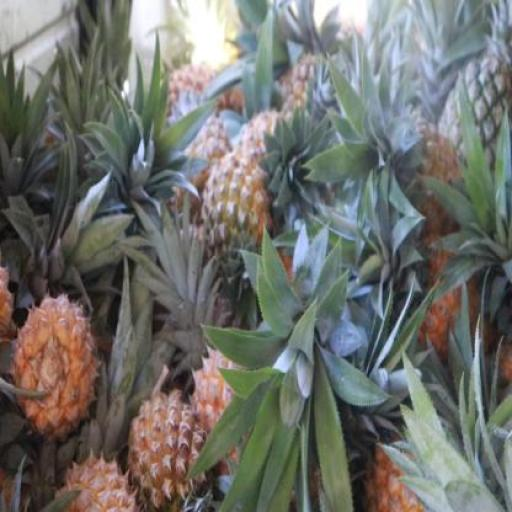------------------------------: (200, 154, 268, 287)
Pineapple - v8 v1: (16, 298, 96, 432), (131, 394, 209, 507)
